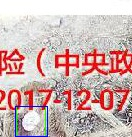text: (16, 106, 45, 136)
